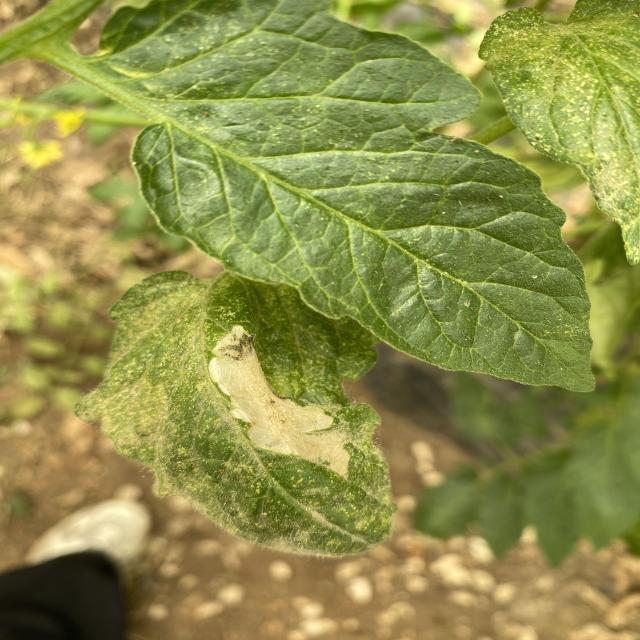Tuta absoluta: (185, 321, 367, 505)
